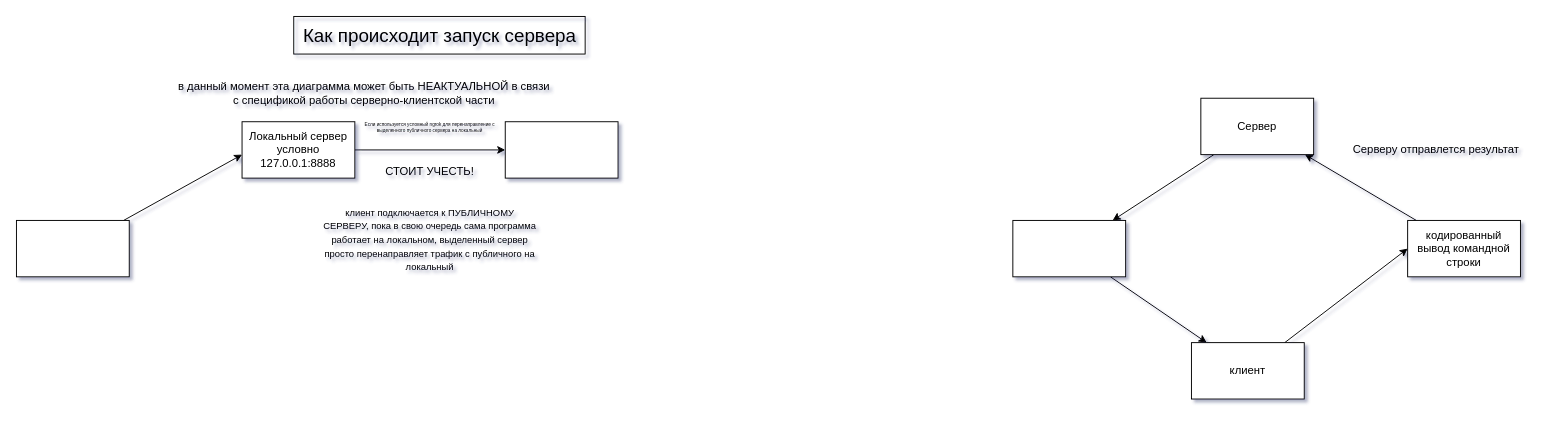
Image size: 1552x421. Some labels were removed from this diagram. The shapes that lost their labels are listed below. From the top down, each one's centre as x and y in pixels, then its label:
At (561,149): "Выделенный сервер ngrok или подобное ему".
At (72,248): "start_interface".
At (1069,248): "Команда обрабатывается".
